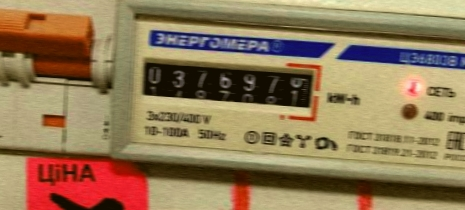0: (148, 60, 163, 81)
1: (289, 84, 302, 103)
3: (172, 64, 187, 85)
6: (219, 64, 234, 86)
7: (195, 63, 210, 85), (267, 69, 280, 91)
9: (243, 67, 256, 89)
screen: (134, 45, 327, 119)
